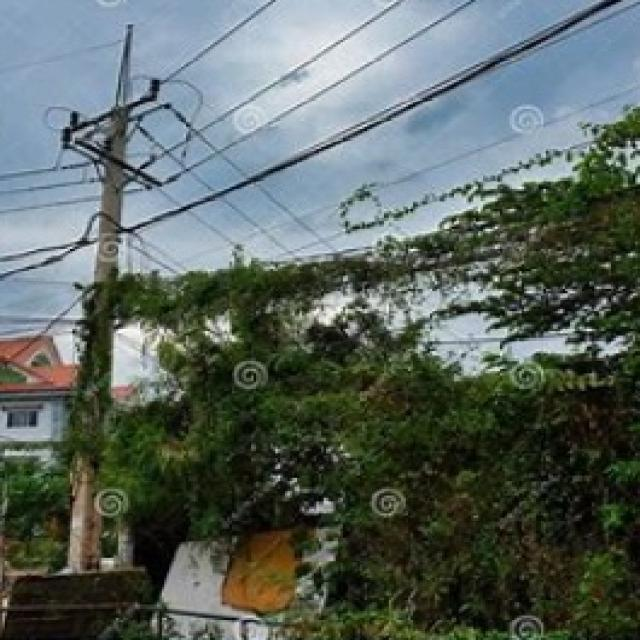critical vegetation: (97, 238, 633, 369)
